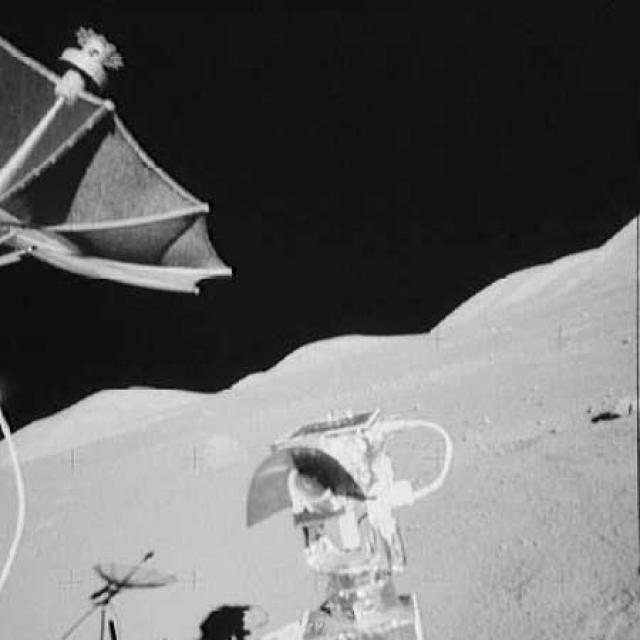artifact: (0, 18, 242, 306), (229, 398, 466, 639), (0, 405, 34, 602)
crater: (476, 387, 638, 445)
